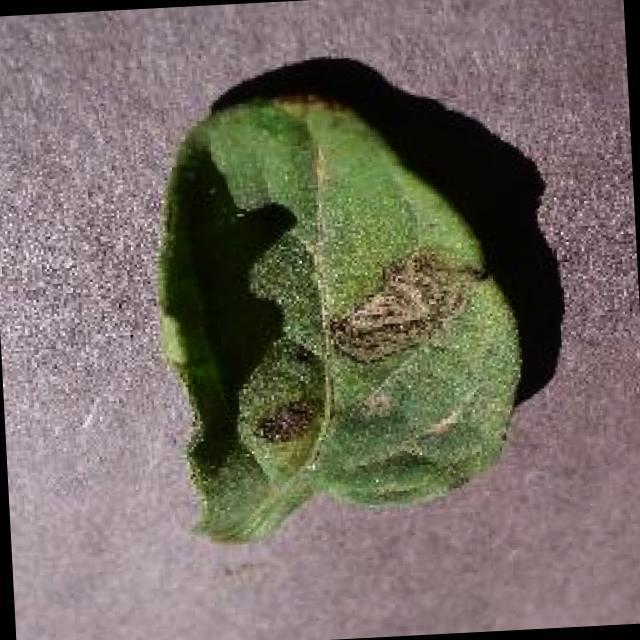Tomato Early blight leaf: (151, 90, 528, 548)
